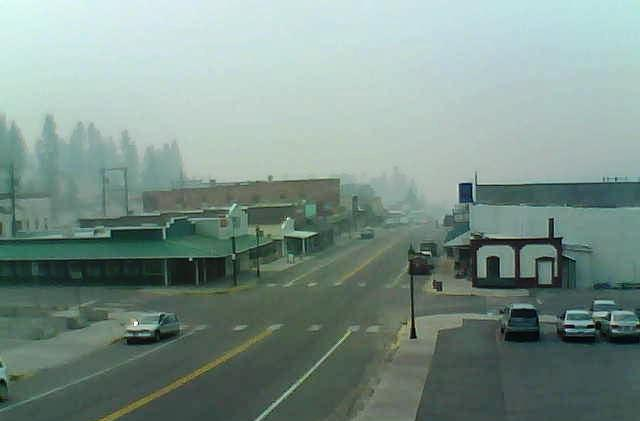car: (125, 310, 181, 345), (498, 302, 542, 342), (558, 309, 599, 342), (599, 309, 640, 342), (590, 299, 620, 330), (360, 226, 375, 240)
